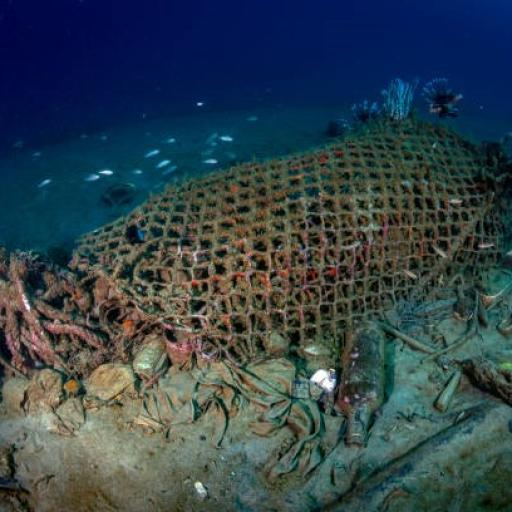net: (2, 123, 512, 361)
